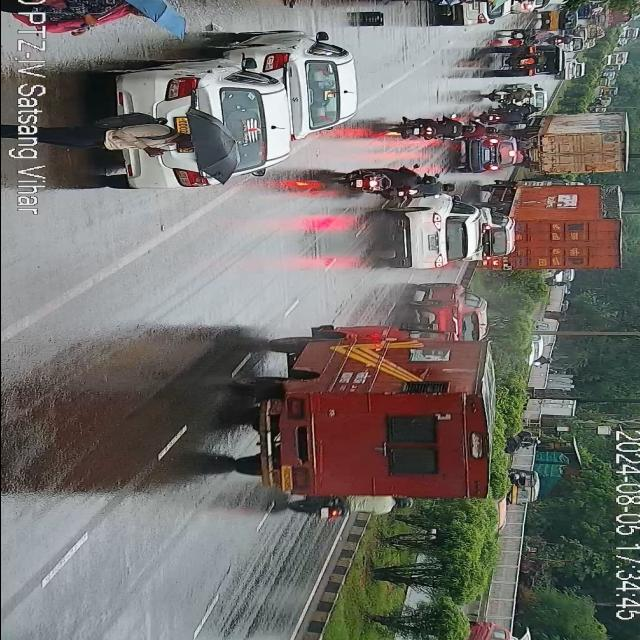2-wheelers: (338, 165, 454, 201), (389, 112, 492, 144), (287, 497, 415, 518), (486, 88, 536, 102), (477, 111, 533, 123), (542, 36, 580, 44), (519, 437, 538, 451)
auto: (505, 462, 537, 510), (537, 11, 579, 33)
car: (94, 58, 286, 190), (208, 32, 358, 142), (383, 196, 481, 276), (414, 284, 486, 340), (457, 138, 521, 178), (438, 0, 513, 29), (480, 203, 514, 260), (556, 58, 590, 82)
pedestrian: (47, 114, 227, 180), (50, 0, 190, 40), (396, 0, 478, 8)
truck: (237, 322, 501, 520), (468, 185, 624, 285), (530, 113, 628, 174), (450, 615, 548, 640)
